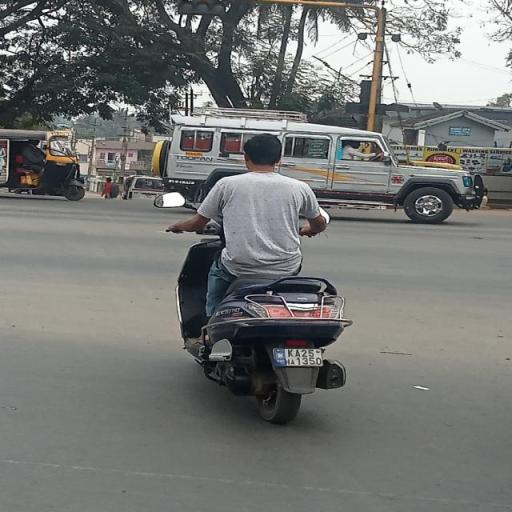bike: (152, 126, 362, 432)
numberplate: (273, 346, 325, 366)
withouthelmet: (242, 135, 280, 168)
